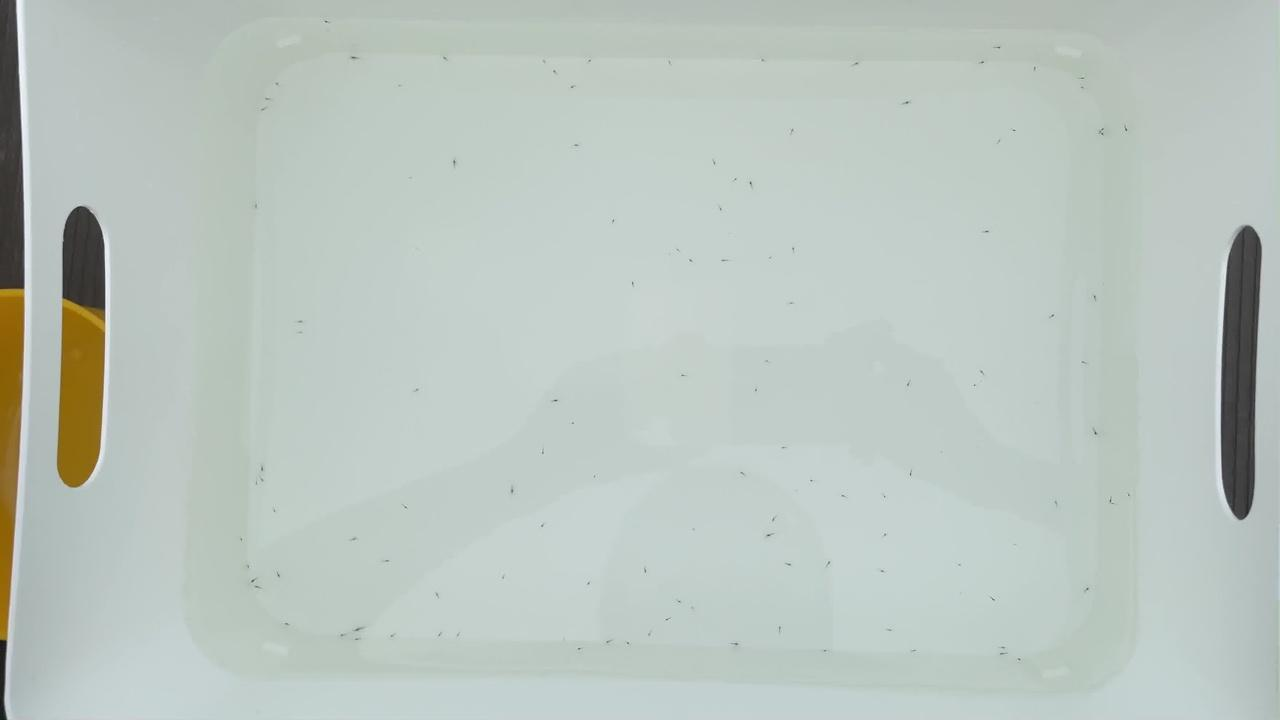shrimp: (321, 20, 333, 28), (348, 55, 360, 63), (273, 81, 285, 89), (262, 96, 274, 104), (258, 107, 270, 115), (248, 205, 260, 213), (295, 319, 307, 327), (295, 330, 307, 338), (413, 387, 425, 395), (551, 397, 563, 405), (678, 374, 690, 382), (627, 281, 639, 289), (686, 258, 698, 266), (673, 246, 685, 254), (610, 220, 622, 228), (450, 160, 462, 168), (439, 52, 451, 60), (395, 79, 407, 87), (569, 142, 581, 150), (536, 58, 548, 66), (550, 68, 562, 76), (567, 84, 579, 92), (584, 56, 596, 64), (664, 62, 676, 70), (758, 56, 770, 64), (851, 60, 863, 68), (978, 58, 990, 66), (992, 46, 1004, 54), (1028, 62, 1040, 70), (1077, 75, 1089, 83), (1077, 84, 1089, 92), (1095, 129, 1107, 137), (1121, 125, 1133, 133), (1013, 127, 1025, 135), (995, 139, 1007, 147), (903, 102, 915, 110), (786, 126, 798, 134), (746, 182, 758, 190), (714, 206, 726, 214), (728, 176, 740, 184), (711, 162, 723, 170), (719, 258, 731, 266), (789, 246, 801, 254), (787, 297, 799, 305), (982, 225, 994, 233), (1089, 294, 1101, 302), (1047, 315, 1059, 323), (1078, 360, 1090, 368), (976, 368, 988, 376), (971, 382, 983, 390), (903, 380, 915, 388), (1090, 429, 1102, 437), (762, 359, 774, 367), (751, 388, 763, 396), (1123, 493, 1135, 501), (1106, 498, 1118, 506), (1052, 501, 1064, 509), (1084, 587, 1096, 595), (1015, 657, 1027, 665), (994, 651, 1006, 659), (999, 645, 1011, 653), (988, 595, 1000, 603), (956, 563, 968, 571), (910, 647, 922, 655), (885, 628, 897, 636), (876, 569, 888, 577), (880, 532, 892, 540), (879, 493, 891, 501), (906, 471, 918, 479), (838, 492, 850, 500), (824, 559, 836, 567), (783, 562, 795, 570), (775, 624, 787, 632), (821, 649, 833, 657), (732, 640, 744, 648), (690, 607, 702, 615), (674, 598, 686, 606), (664, 616, 676, 624), (646, 631, 658, 639), (625, 640, 637, 648), (605, 638, 617, 646), (577, 646, 589, 654), (583, 580, 595, 588), (640, 566, 652, 574), (763, 532, 775, 540), (768, 516, 780, 524), (806, 478, 818, 486), (779, 446, 791, 454), (737, 467, 749, 475), (539, 523, 551, 531), (509, 487, 521, 495), (537, 449, 549, 457), (568, 419, 580, 427), (590, 472, 602, 480), (501, 574, 513, 582), (557, 635, 569, 643), (452, 631, 464, 639), (433, 633, 445, 641), (433, 590, 445, 598), (387, 632, 399, 640), (353, 636, 365, 644), (352, 625, 364, 633), (337, 632, 349, 640), (280, 620, 292, 628), (253, 584, 265, 592), (246, 576, 258, 584), (242, 561, 254, 569), (234, 536, 246, 544), (270, 507, 282, 515), (274, 567, 286, 575), (346, 534, 358, 542), (380, 557, 392, 565), (399, 504, 411, 512), (251, 481, 263, 489), (258, 476, 270, 484), (256, 463, 268, 471)
